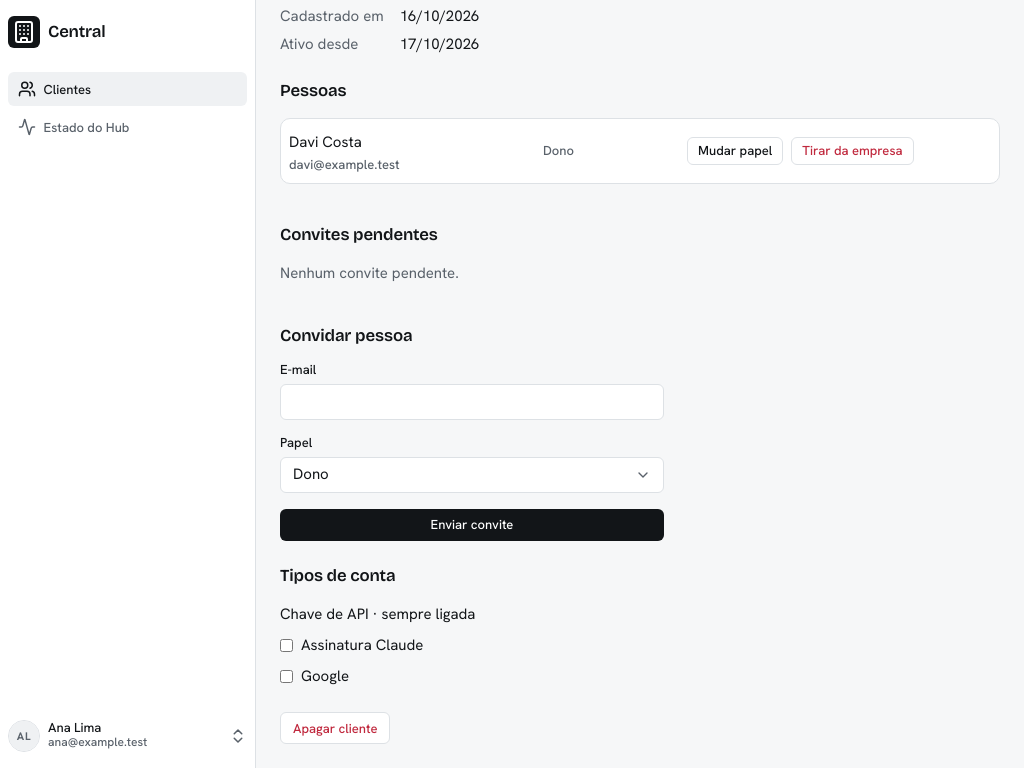
Test: Apagar cliente com o banco fora: o diálogo fecha e a página lê de novo, agora com a exclusão em andamento
(page scrolled)
Click the button "Apagar cliente" at {"x": 335, "y": 728}, box 280,712 -> 390,744
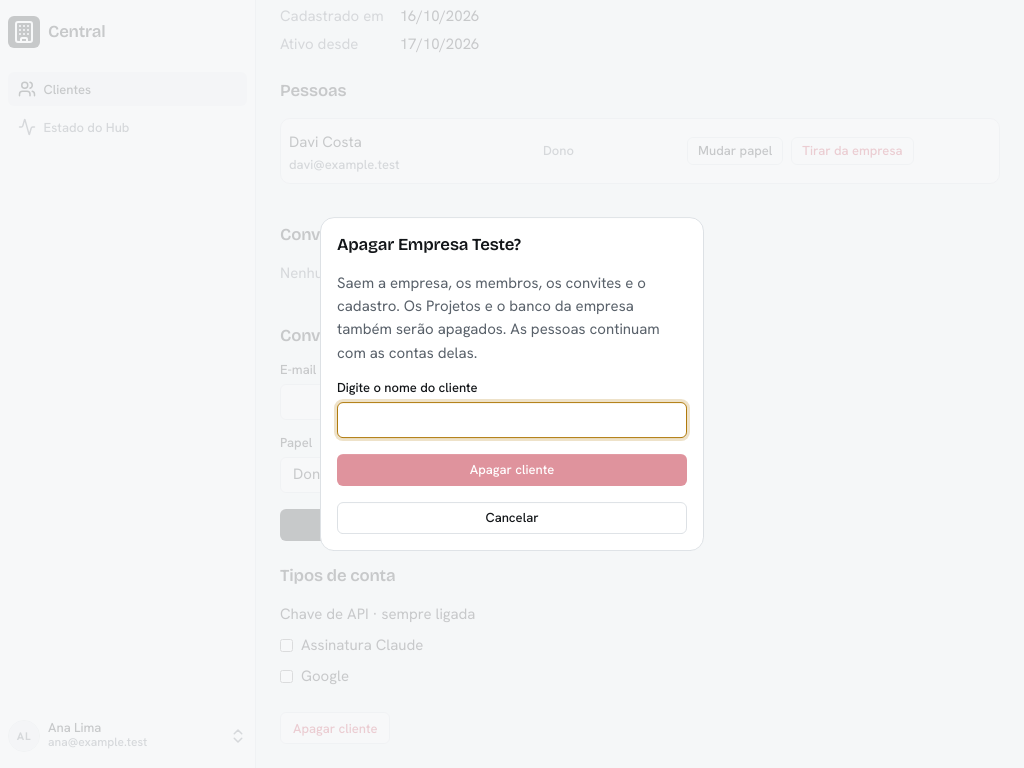
Expected: the dialog is shown, 320,217 -> 704,551
Type "Empresa Teste" into the field labelled "Digite o nome do cliente" at {"x": 512, "y": 420}, box 337,402 -> 687,438
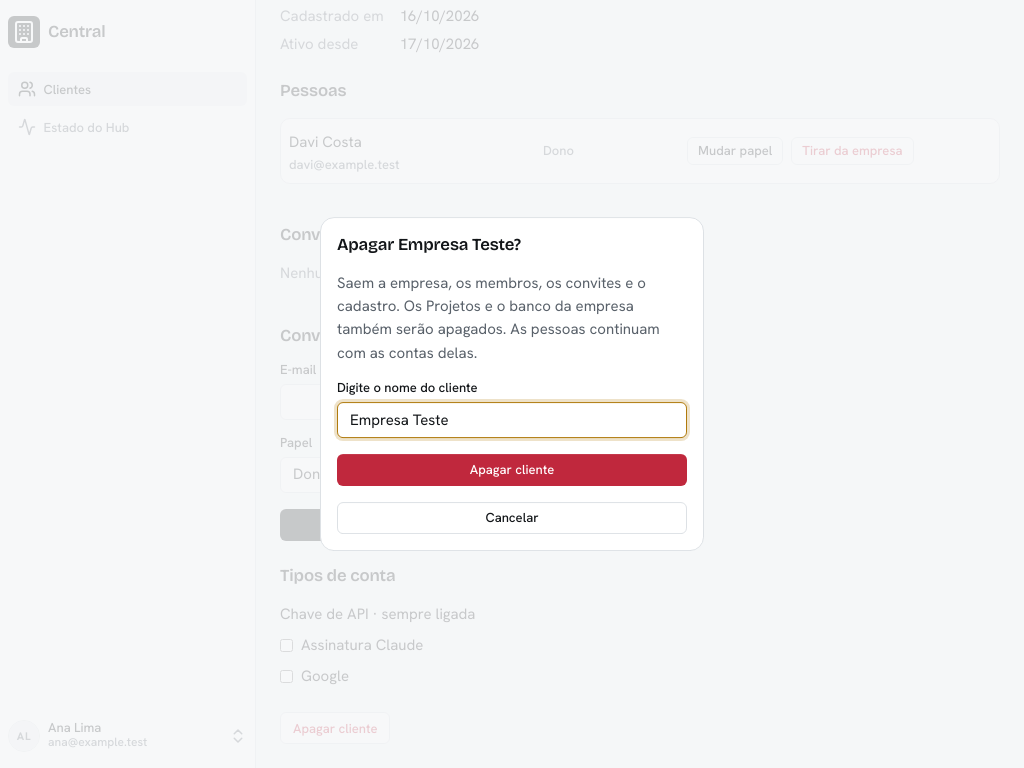
Click the button "Apagar cliente" at {"x": 512, "y": 470}, box 337,454 -> 687,486
(page scrolled)
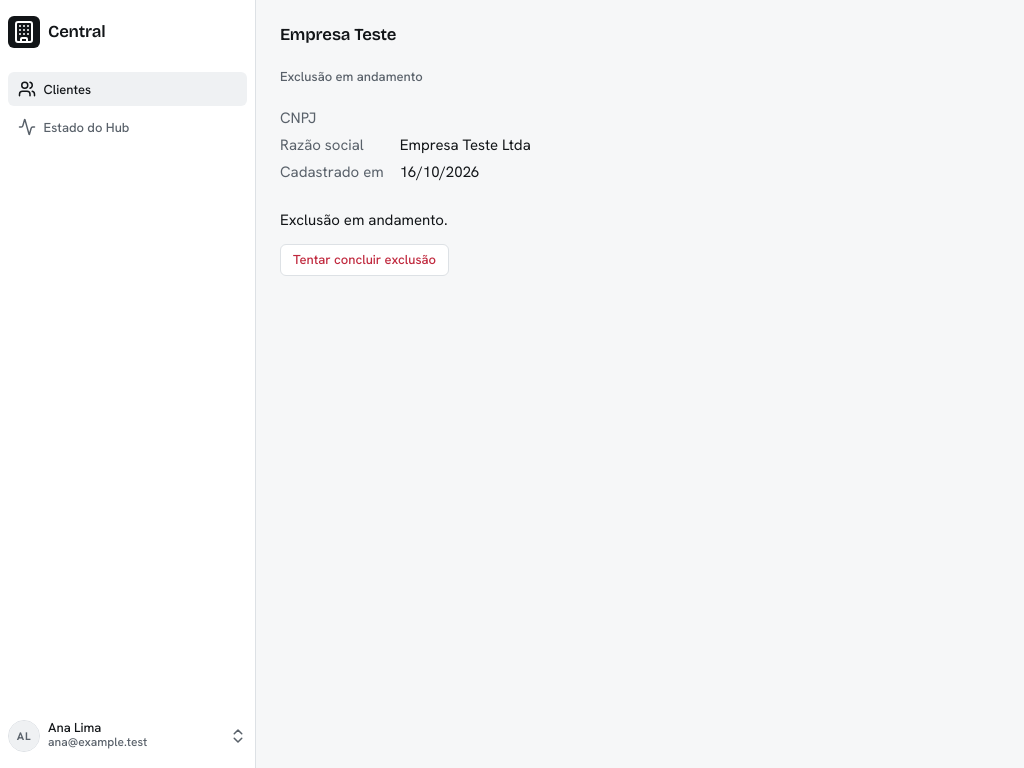
Expected: the text "Exclusão em andamento." is shown, 280,209 -> 448,232
Expected: the dialog is gone
